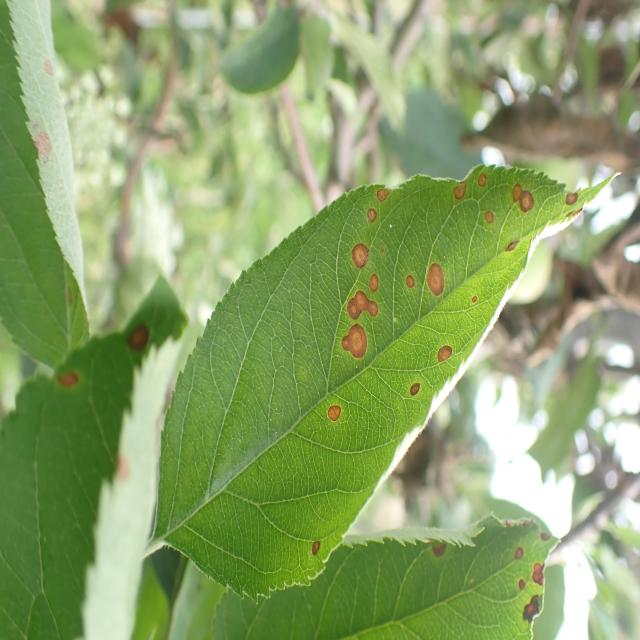Black Rot: (343, 272, 382, 328), (122, 306, 156, 368), (338, 320, 379, 370), (507, 162, 537, 223), (426, 254, 456, 310), (424, 531, 459, 578), (323, 392, 351, 441), (501, 226, 525, 280), (400, 373, 430, 415), (509, 590, 543, 626), (363, 264, 390, 309), (348, 226, 376, 268), (476, 194, 502, 239), (52, 370, 84, 405), (550, 174, 580, 211), (302, 527, 330, 566), (361, 202, 393, 236), (536, 522, 558, 566), (448, 175, 474, 212), (472, 160, 498, 194), (434, 332, 454, 376), (403, 264, 424, 305), (505, 567, 530, 599), (530, 553, 546, 597), (374, 176, 396, 208), (501, 542, 527, 568), (558, 202, 584, 226), (465, 290, 486, 318)
